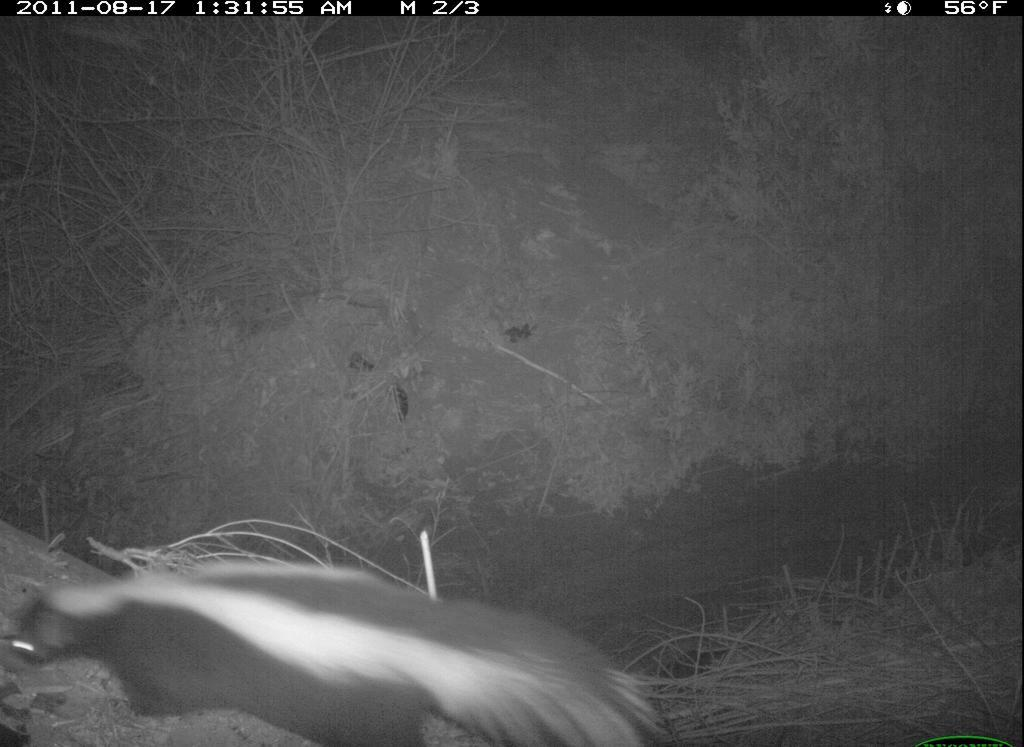skunk: (3, 537, 692, 735)
